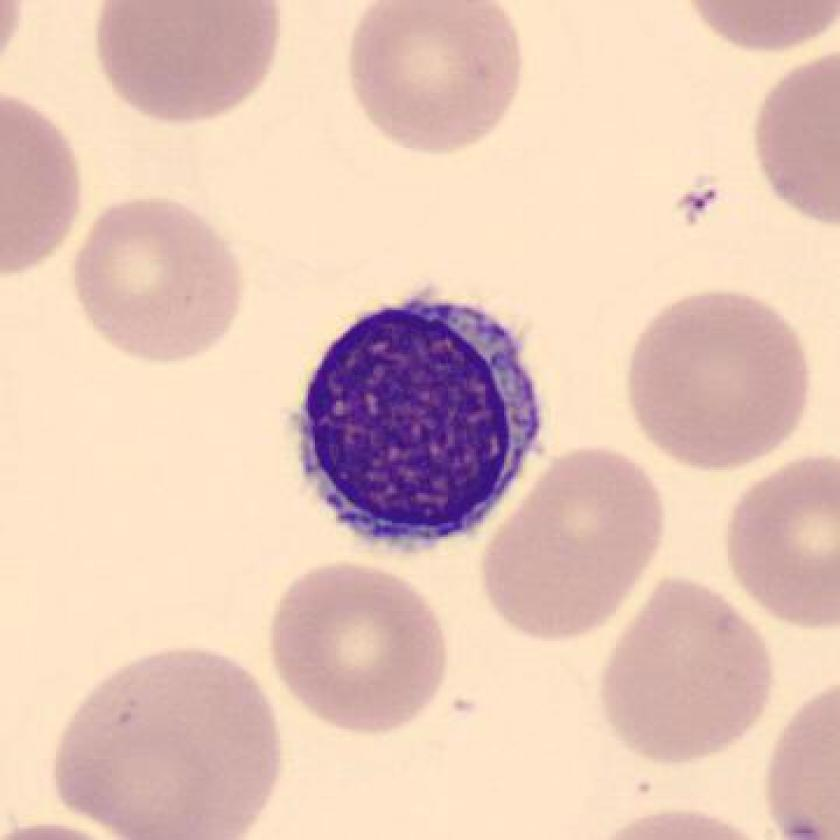lymphocyte: (269, 279, 561, 566)
